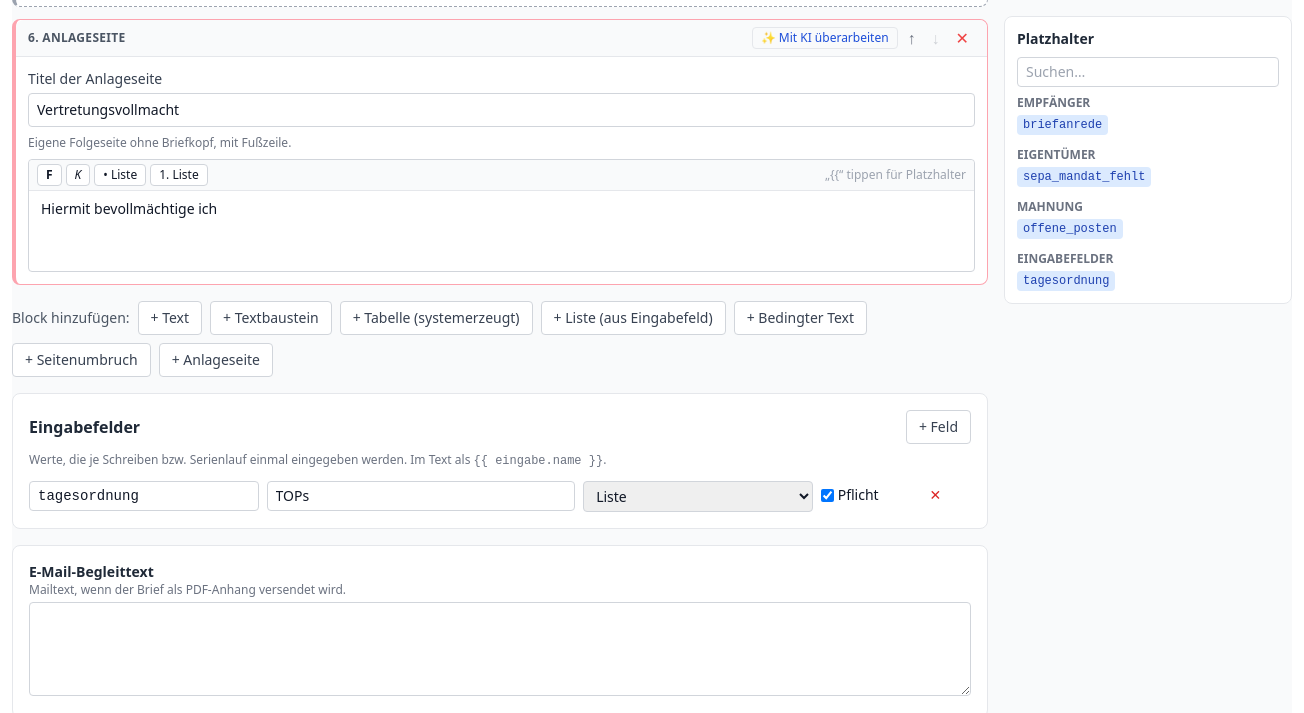
it: VorlagenEditor — Blockrahmen und Blockstruktur › speichert die unveränderte Blockstruktur ohne lokale Schlüssel (PATCH nur mit Änderung)
This screenshot has width=1304, height=713.
(page scrolled)
What coordinates should you click on to do the following:
click the button "+ Seitenumbruch"
I would click on:
 (81, 360)
Its box is [12,343,151,377].
(page scrolled)
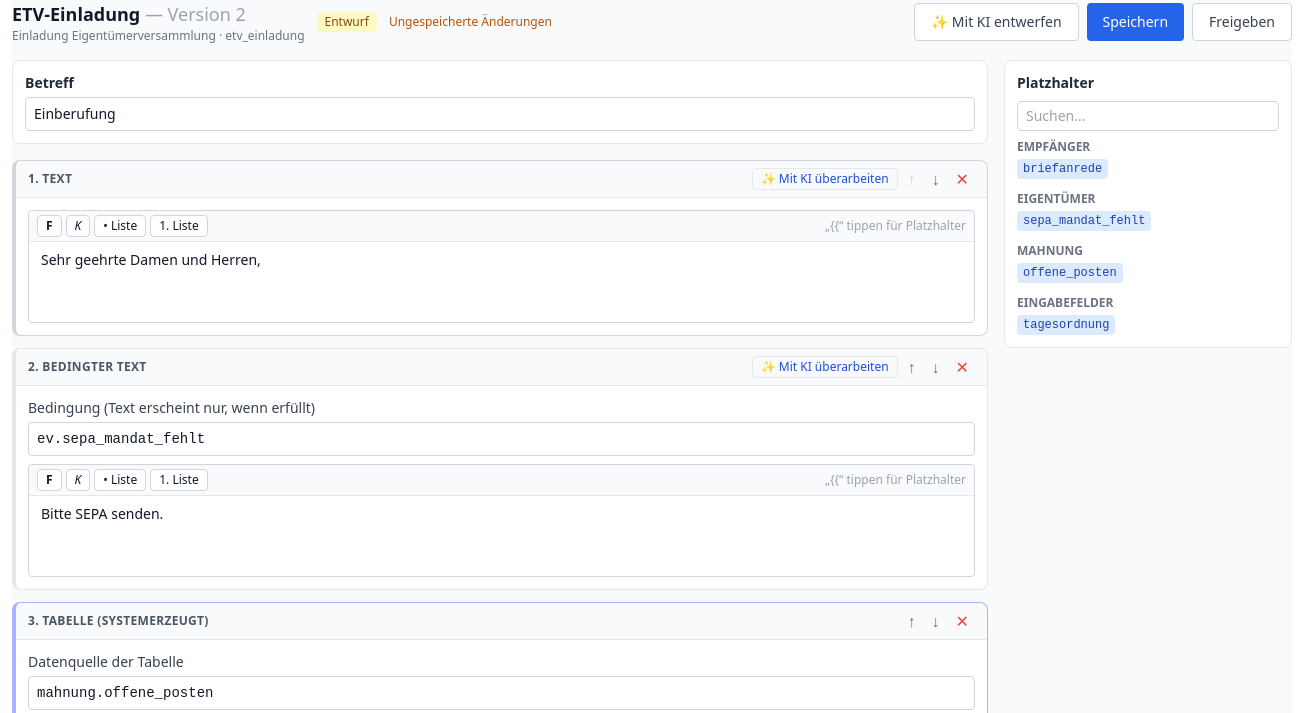
What coordinates should you click on to do the following:
click the button "Speichern"
I would click on:
 (1135, 22)
Its box is [1086,3,1184,41].
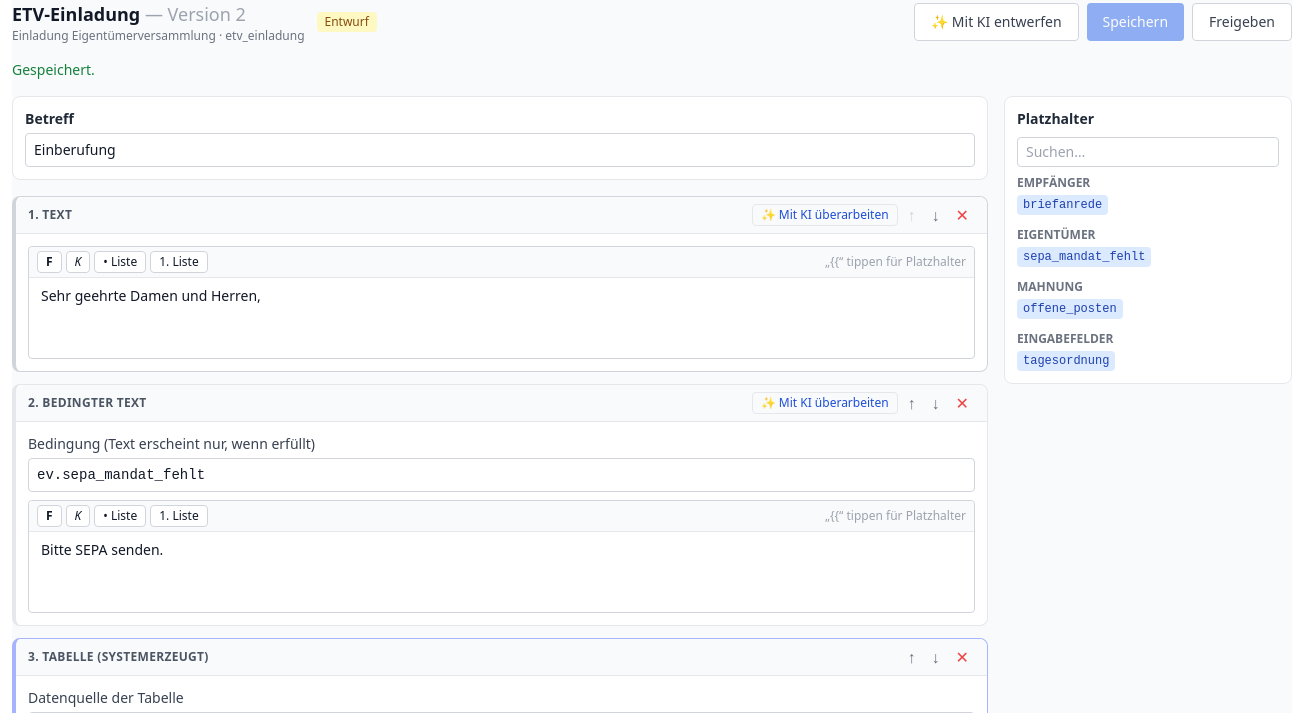
Expected: the text "Gespeichert." is shown, [12,60,95,79]
